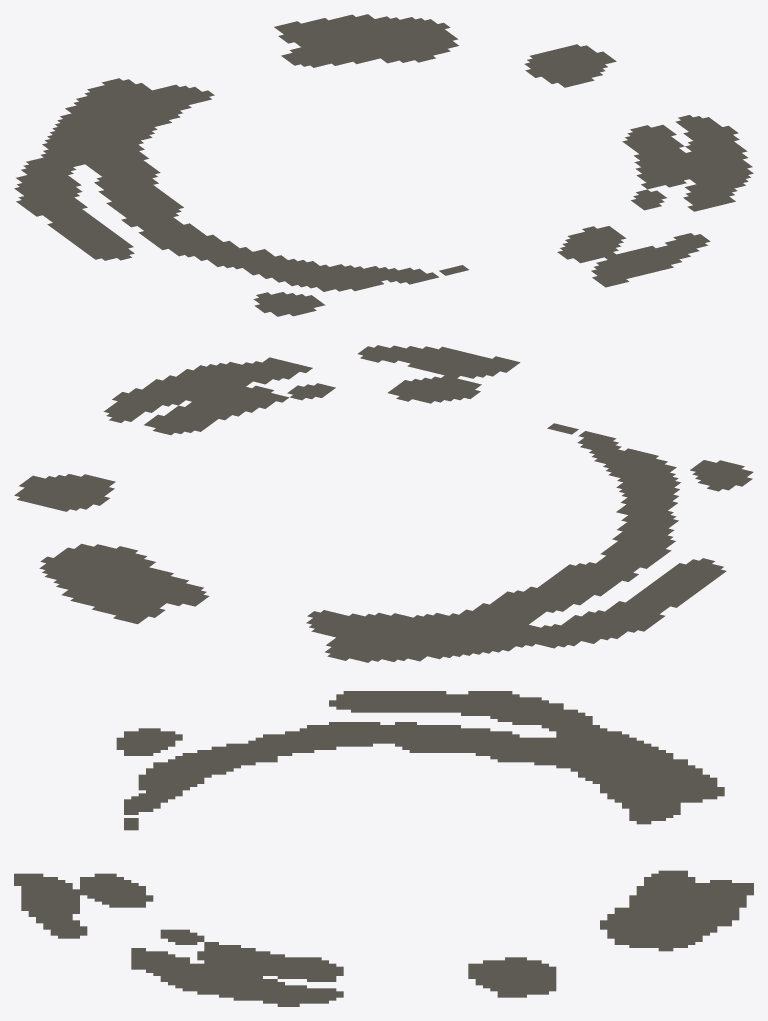
File: Isl-atoll2-NoBuildArea.fbx
The picture shows the model from 3 angles, top to bottom: view 1: azimuth 30°, elevation 25°; view 2: azimuth 150°, elevation 25°; view 3: azimuth 270°, elevation 25°; orthographic projection. The views are drawn at different scales.
Parts seen in each view (by area): view 1: Isl-atoll2-NoBuildArea; view 2: Isl-atoll2-NoBuildArea; view 3: Isl-atoll2-NoBuildArea.
Part boxes in pixels (x1,y1,x2,y2): Isl-atoll2-NoBuildArea: [14, 14, 753, 316]; Isl-atoll2-NoBuildArea: [14, 345, 753, 662]; Isl-atoll2-NoBuildArea: [14, 691, 753, 1006].
Bounding box in the file's own units: 102 × 0 × 101.
